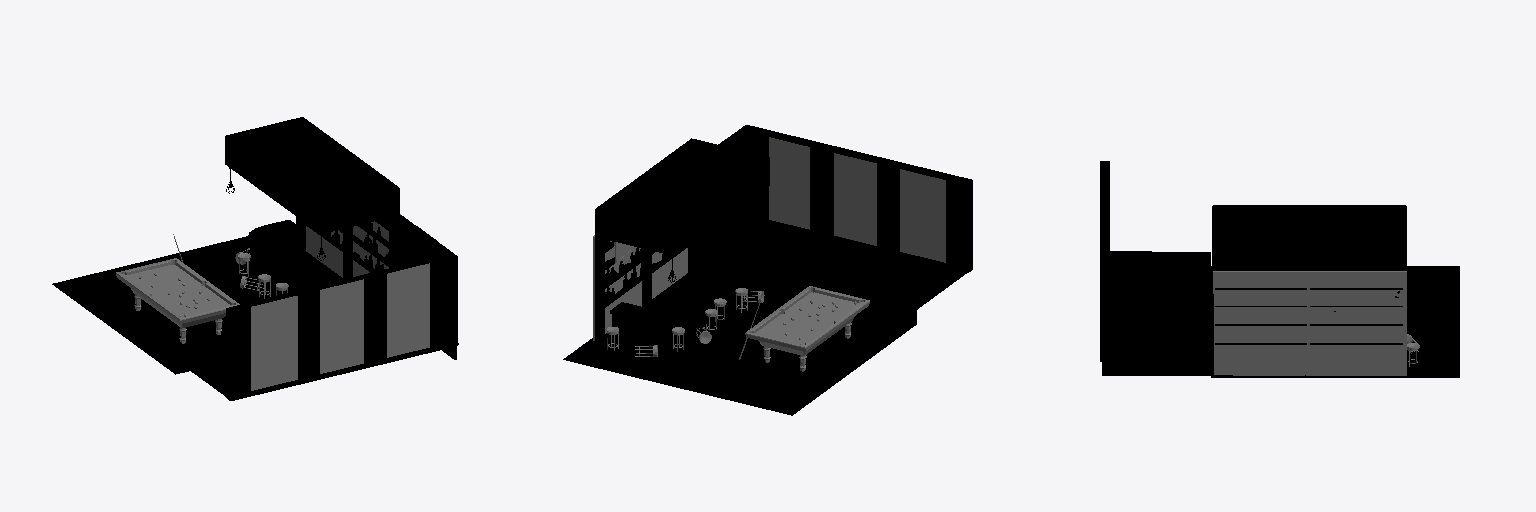
3 renders of one model, left to right at view 1: azimuth 30°, elevation 25°; view 2: azimuth 150°, elevation 25°; view 3: azimuth 270°, elevation 25°, orthographic.
Visible parts, largest first — view 1: Scene Wall, Scene Floor, Scene Table, textureEditorIsolateSelectSet Scene PoolTable, Scene PoolTable; view 2: Scene Wall, Scene Floor, Scene Table, textureEditorIsolateSelectSet Scene PoolTable, Scene PoolTable; view 3: Scene Wall, Scene Floor.
Boxes of the visible parts, x1,y1,x2,y2 form: Scene Wall: [225, 117, 457, 400]; Scene Floor: [52, 236, 458, 399]; Scene Table: [248, 220, 337, 294]; textureEditorIsolateSelectSet Scene PoolTable: [127, 265, 229, 317]; Scene PoolTable: [116, 258, 239, 343]; Scene Wall: [593, 125, 972, 342]; Scene Floor: [563, 218, 966, 415]; Scene Table: [610, 242, 744, 350]; textureEditorIsolateSelectSet Scene PoolTable: [756, 292, 858, 344]; Scene PoolTable: [745, 286, 869, 371]; Scene Wall: [1100, 161, 1406, 375]; Scene Floor: [1102, 251, 1459, 377].
Size of the model in its own units: 449 by 247 by 607.